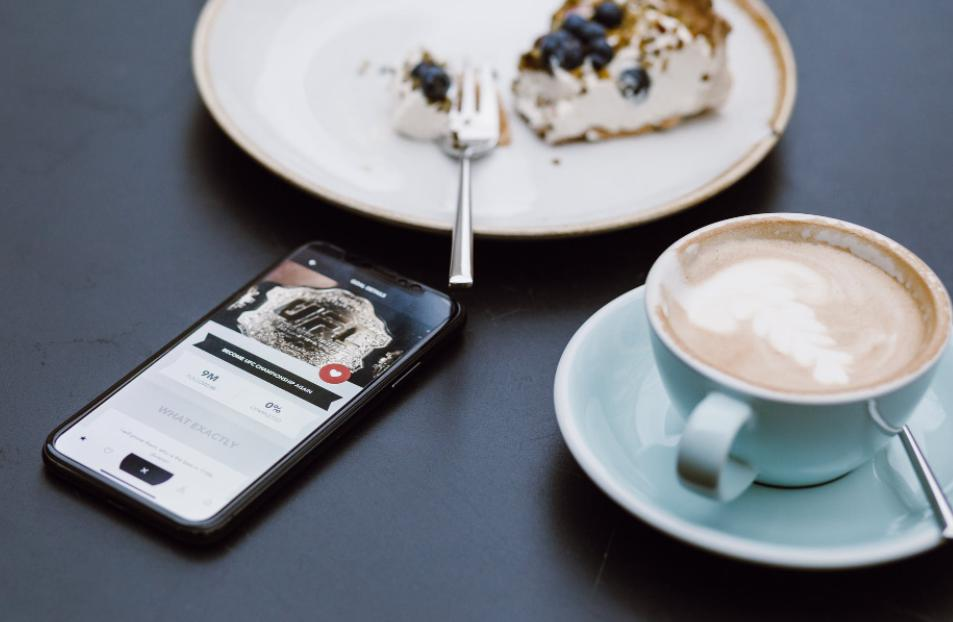mobile: (43, 236, 466, 554)
